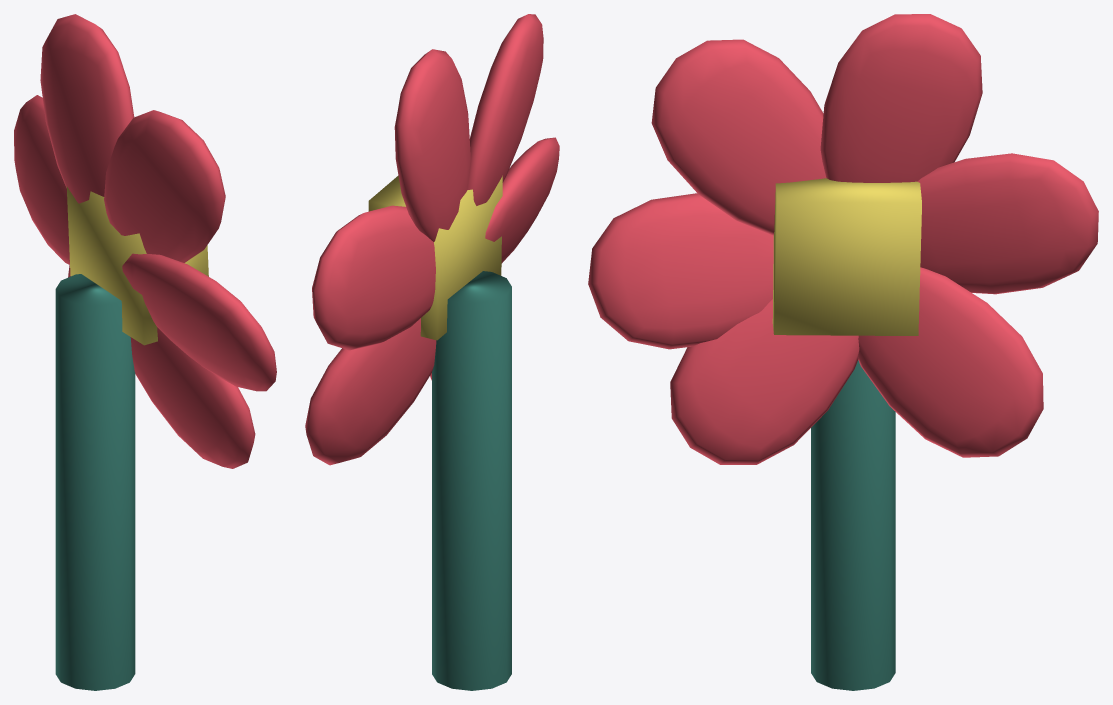
The model's file is fleur-rouge.gltf.
3 views of the same model, side by side, from view 1: azimuth 30°, elevation 25°; view 2: azimuth 150°, elevation 25°; view 3: azimuth 270°, elevation 25° (orthographic). The views are drawn at different scales.
Parts seen in each view (by area): view 1: fleur-rouge-pétales, fleur-rouge.tige, fleur-rouge.centre; view 2: fleur-rouge-pétales, fleur-rouge.tige, fleur-rouge.centre; view 3: fleur-rouge-pétales, fleur-rouge.tige, fleur-rouge.centre.
Part boxes in pixels (box(x1,y1,x2,y2)): fleur-rouge-pétales: box(14, 14, 276, 468); fleur-rouge.tige: box(55, 274, 135, 690); fleur-rouge.centre: box(66, 186, 208, 345); fleur-rouge-pétales: box(305, 14, 559, 465); fleur-rouge.tige: box(432, 271, 511, 690); fleur-rouge.centre: box(368, 175, 502, 340); fleur-rouge-pétales: box(588, 14, 1098, 464); fleur-rouge.tige: box(811, 360, 895, 690); fleur-rouge.centre: box(772, 178, 921, 335).
Size of the model in its own units: 0.1497 by 0.7741 by 0.5356.
